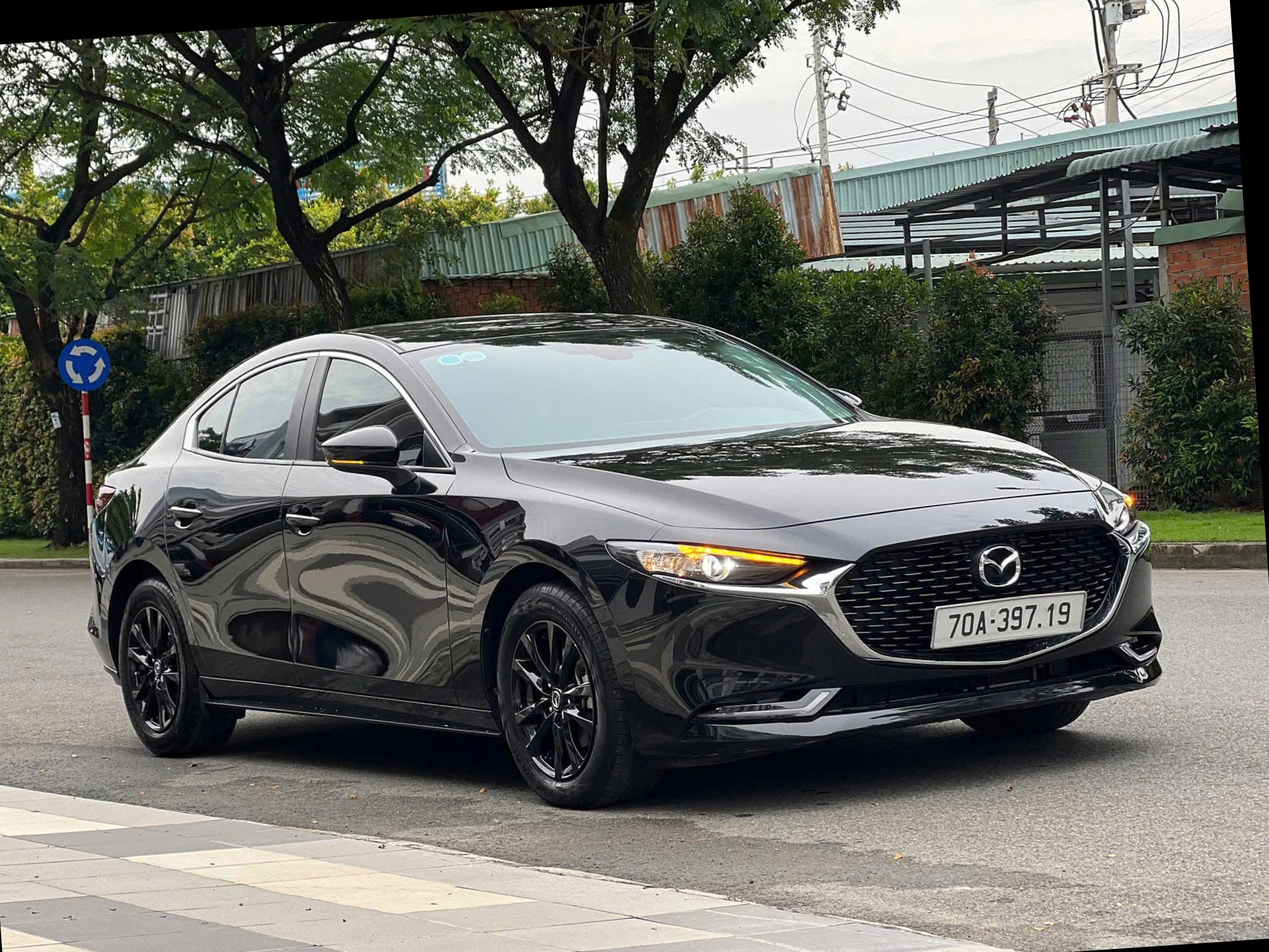Bien-so: (932, 596, 1092, 647)
